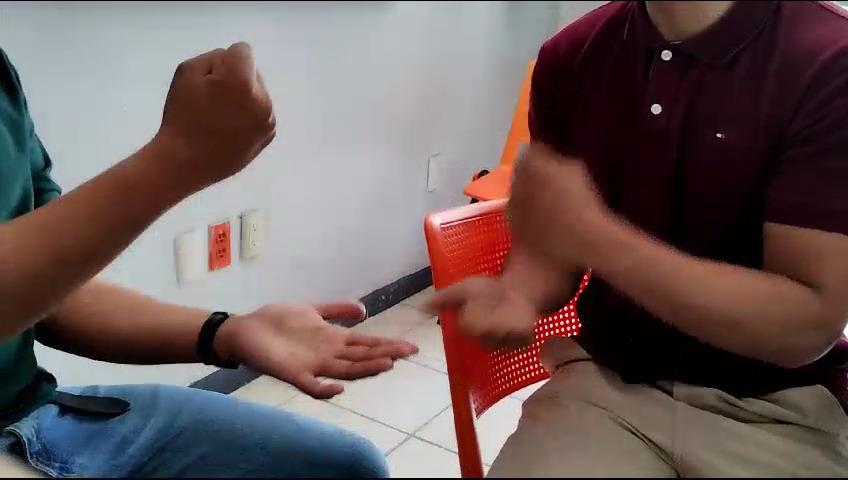Paper: (220, 283, 420, 412)
Stone: (144, 37, 300, 189), (494, 124, 619, 271)
